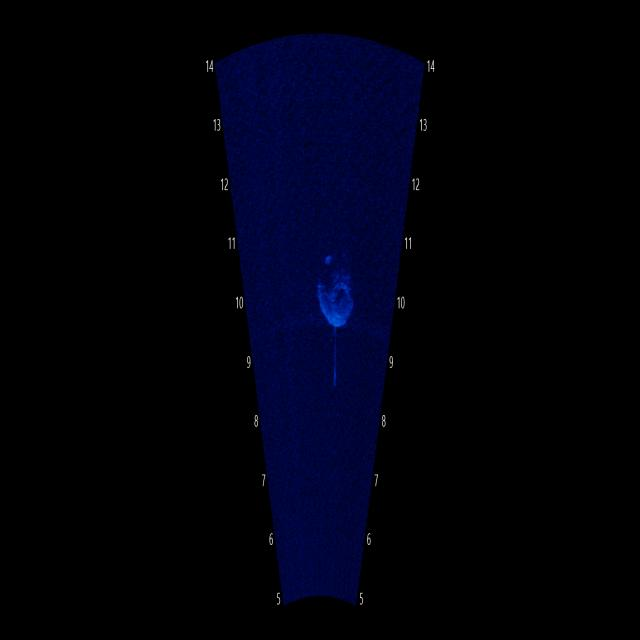circle: (311, 234, 366, 350)
